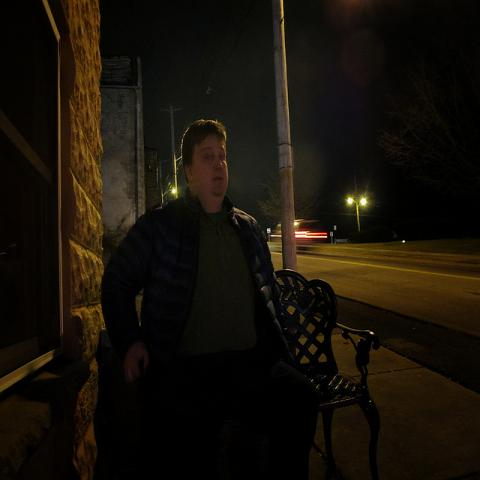car: (271, 220, 326, 248)
